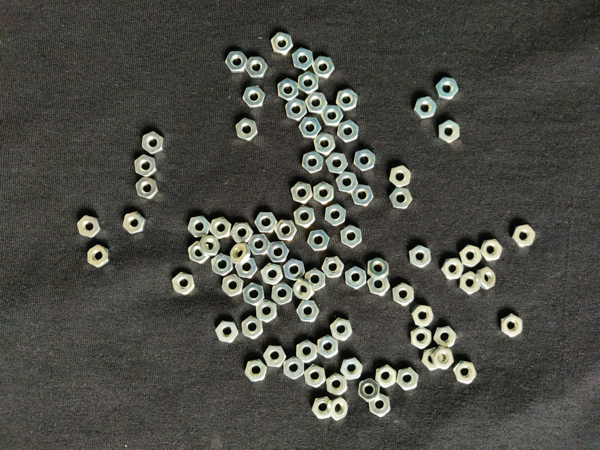nut: (512, 224, 536, 249), (453, 361, 478, 385), (431, 346, 455, 370), (358, 378, 381, 403), (501, 314, 524, 338), (436, 77, 459, 101), (458, 271, 481, 295), (330, 318, 353, 342), (172, 272, 195, 296), (77, 215, 101, 238), (414, 97, 437, 120), (409, 245, 432, 268), (336, 171, 359, 194), (341, 358, 364, 381), (291, 181, 314, 204), (285, 99, 308, 122), (312, 56, 335, 79), (271, 31, 294, 54), (243, 85, 266, 108), (326, 373, 349, 396), (283, 258, 306, 281), (261, 263, 284, 286), (264, 345, 287, 368), (142, 132, 165, 155), (439, 120, 461, 144), (411, 326, 433, 350), (376, 365, 398, 389), (393, 282, 415, 306), (325, 152, 349, 174), (336, 88, 358, 112), (236, 118, 258, 142), (296, 301, 320, 323), (242, 316, 264, 340), (222, 274, 244, 298), (210, 216, 232, 240), (370, 393, 391, 418), (305, 267, 326, 292), (460, 245, 483, 267), (442, 258, 465, 280), (434, 326, 457, 348), (412, 305, 435, 327), (397, 368, 419, 391), (345, 267, 367, 290), (354, 149, 376, 172), (351, 185, 374, 207), (338, 120, 360, 143), (321, 105, 344, 127), (341, 225, 363, 248), (302, 151, 324, 174), (299, 117, 322, 139), (292, 48, 314, 71), (245, 56, 268, 78), (226, 51, 248, 74), (294, 205, 316, 228), (304, 365, 326, 388), (271, 283, 293, 306), (245, 360, 268, 382), (256, 300, 278, 323), (243, 283, 265, 306), (216, 321, 239, 343), (235, 258, 258, 280), (199, 235, 222, 257), (135, 154, 157, 177), (123, 212, 146, 234), (88, 245, 110, 268), (298, 71, 319, 95), (327, 397, 348, 421), (297, 340, 318, 364), (189, 241, 210, 265), (481, 239, 503, 261), (390, 166, 412, 188), (314, 133, 336, 155), (306, 92, 328, 114), (325, 204, 347, 226), (136, 177, 158, 199), (390, 188, 413, 209), (278, 78, 299, 101), (322, 257, 345, 278), (307, 230, 330, 251), (294, 278, 315, 301), (255, 212, 278, 233), (231, 223, 254, 244), (212, 253, 233, 276), (188, 216, 211, 237), (318, 335, 338, 359), (423, 349, 444, 371), (368, 258, 389, 280), (275, 220, 297, 241), (249, 234, 271, 255), (230, 243, 251, 265), (368, 276, 391, 296), (314, 182, 334, 205), (284, 357, 304, 380), (267, 242, 290, 262), (477, 267, 496, 290), (312, 398, 331, 420)
